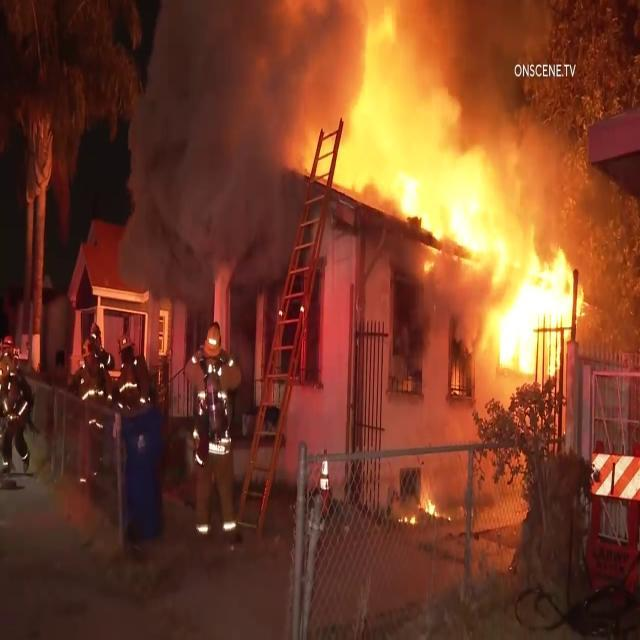Fire: (400, 130, 560, 353)
Smoke: (140, 15, 296, 284)
